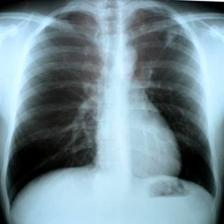tuberculosis: (0, 5, 223, 223)
